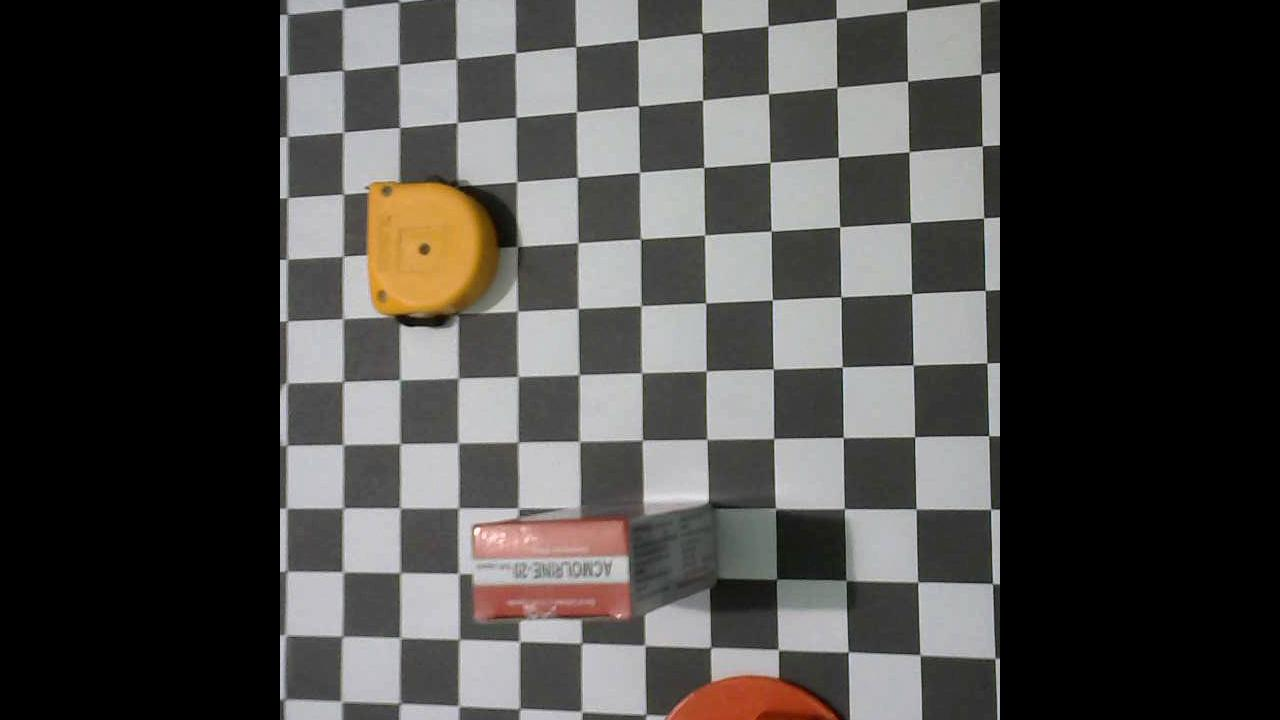blue: (364, 177, 496, 328)
red: (470, 498, 721, 626)
